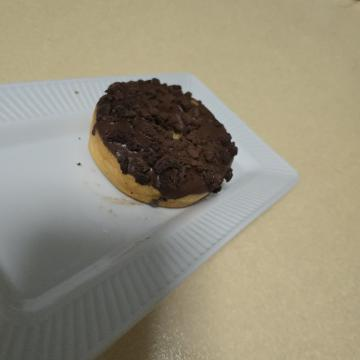doughnut: (62, 109, 222, 288)
